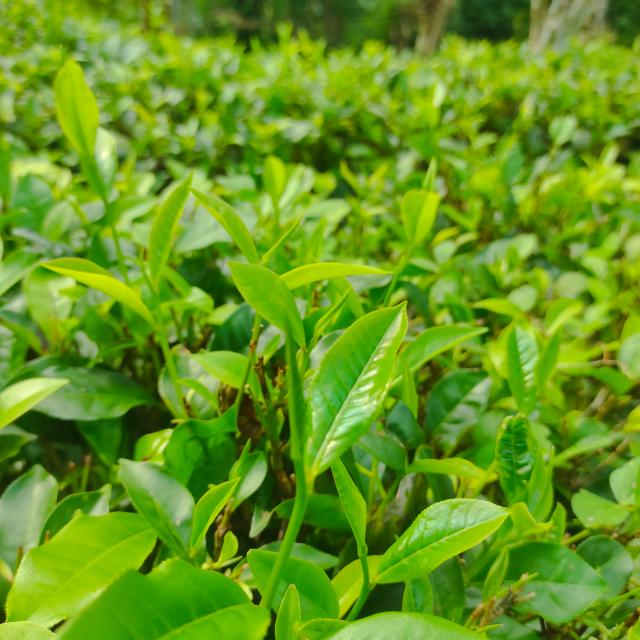unopened_leaf: (271, 290, 312, 494), (145, 487, 197, 561), (309, 276, 359, 350), (479, 567, 547, 613), (256, 211, 310, 265), (529, 439, 562, 520), (136, 241, 162, 308), (230, 433, 254, 480), (204, 550, 247, 575)
